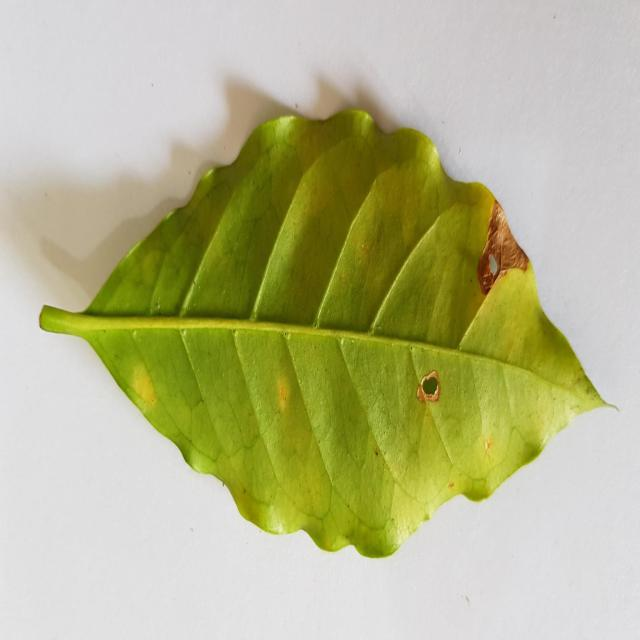Plaga-Minador: (37, 109, 616, 562)
